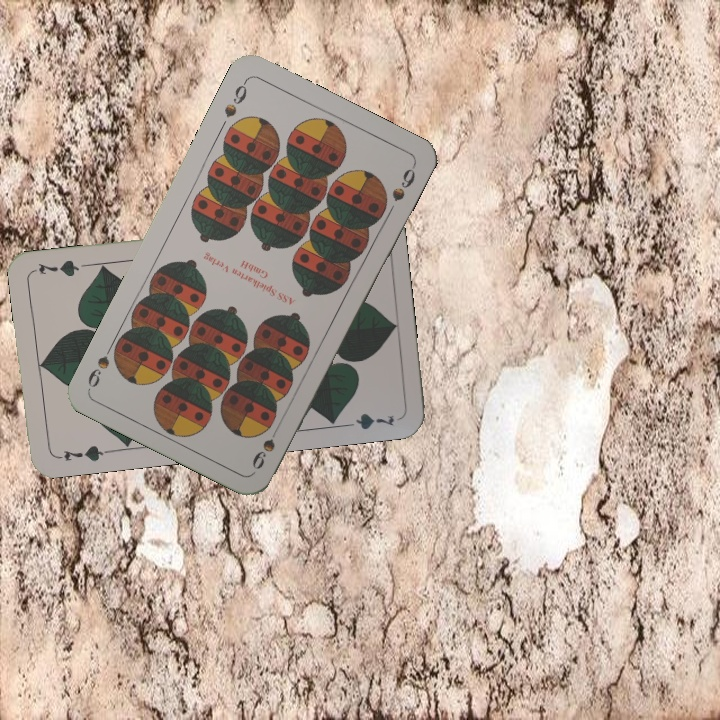G7: (53, 442, 112, 464)
S9: (247, 418, 284, 472), (220, 76, 250, 120)
